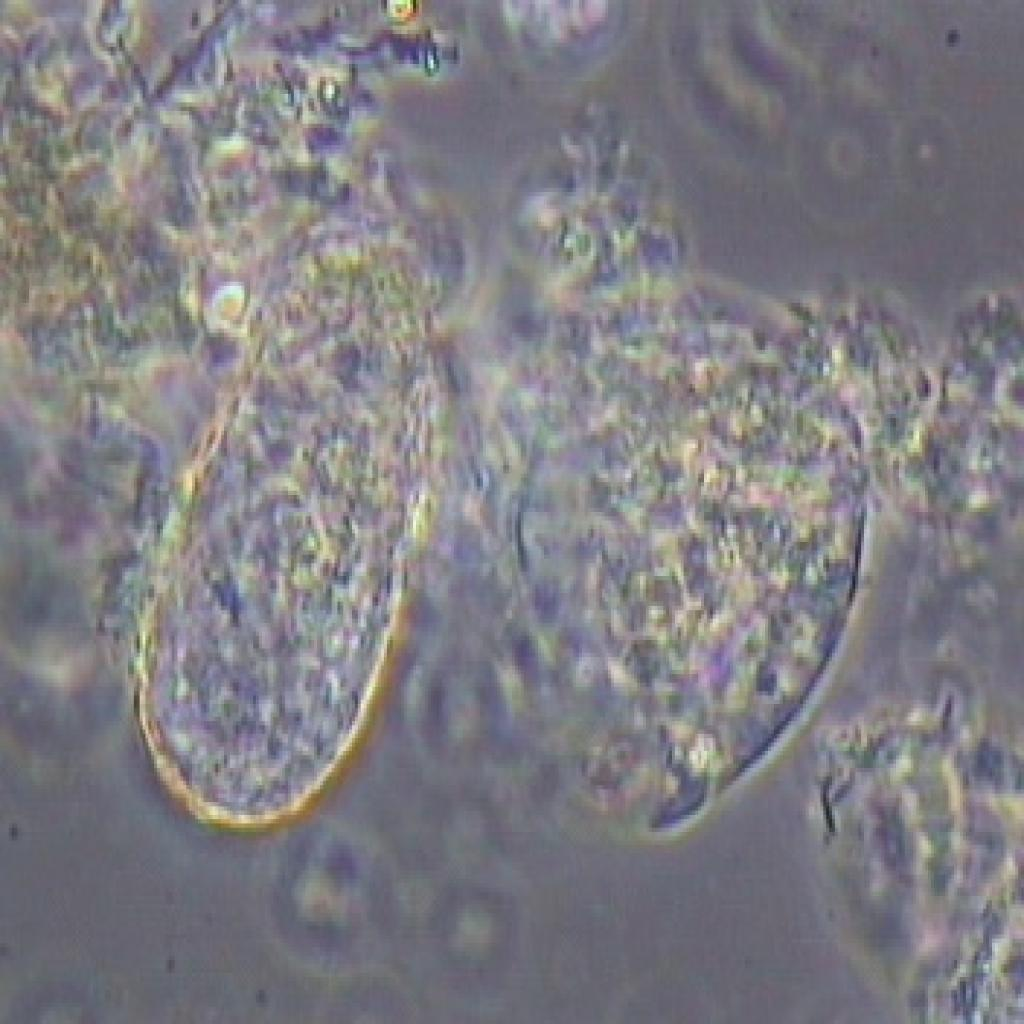Euglypha: (109, 258, 435, 830)
